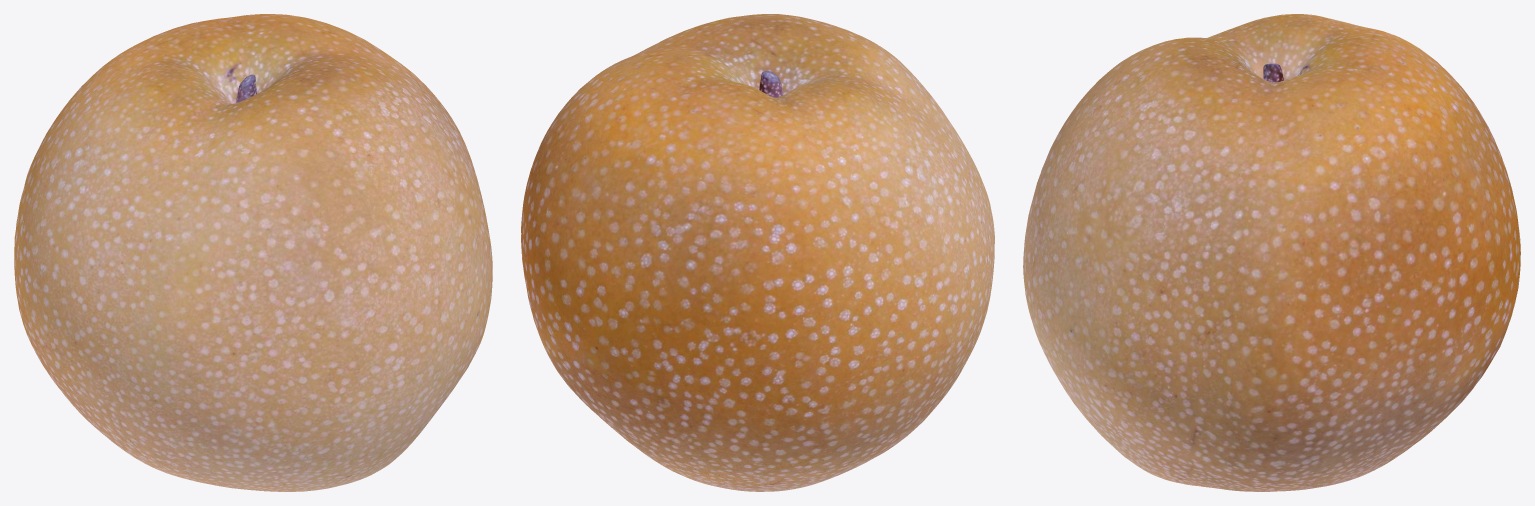
3 views of the same model, side by side, from view 1: azimuth 30°, elevation 25°; view 2: azimuth 150°, elevation 25°; view 3: azimuth 270°, elevation 25° (orthographic). The views are drawn at different scales.
Visible parts, largest first — view 1: pear_02; view 2: pear_02; view 3: pear_02.
Part boxes in pixels (x1,y1,x2,y2): pear_02: (14,14,492,491); pear_02: (521,14,994,491); pear_02: (1023,14,1520,491).
Size of the model in its own units: 0.0978 by 0.0895 by 0.0967.
1 material, 1 textured.
